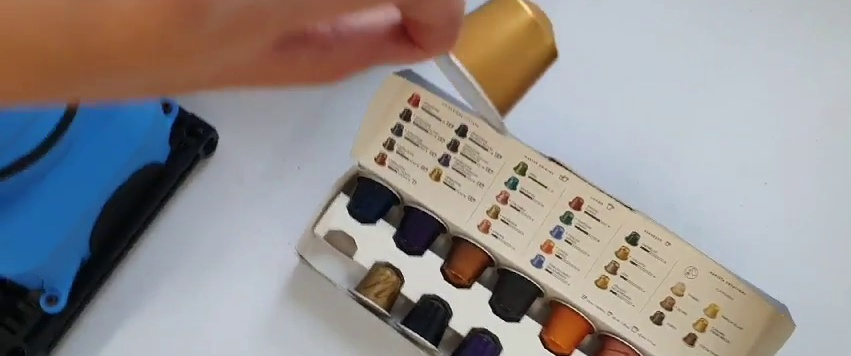capsule_8: (425, 1, 566, 132)
